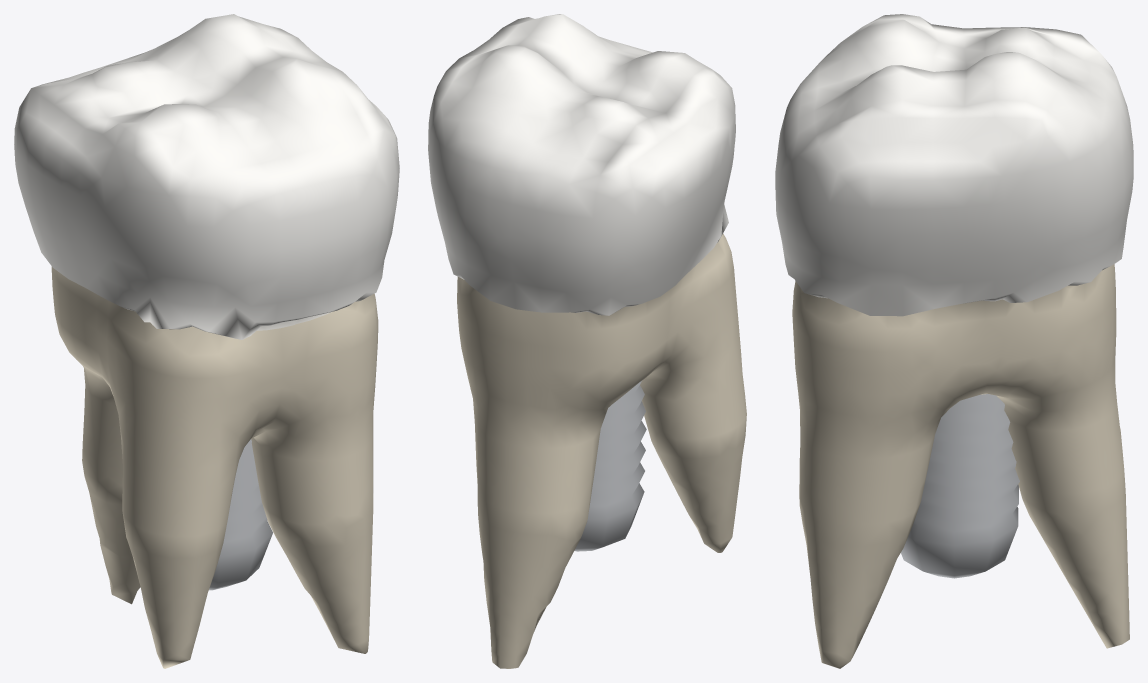
3 views of the same model, side by side, from view 1: azimuth 30°, elevation 25°; view 2: azimuth 150°, elevation 25°; view 3: azimuth 270°, elevation 25° (orthographic). The views are drawn at different scales.
Visible parts, largest first — view 1: crown, root, implant; view 2: crown, root, implant; view 3: crown, root, implant.
Boxes of the visible parts, box(x1,y1,x2,y2) form: crown: box(14, 14, 399, 339); root: box(51, 266, 378, 668); implant: box(209, 439, 272, 590); crown: box(428, 14, 735, 315); root: box(457, 233, 746, 668); implant: box(574, 381, 646, 551); crown: box(775, 14, 1133, 316); root: box(792, 264, 1129, 668); implant: box(901, 394, 1019, 578).
Size of the model in its own units: 10.94 by 22.09 by 11.68.
